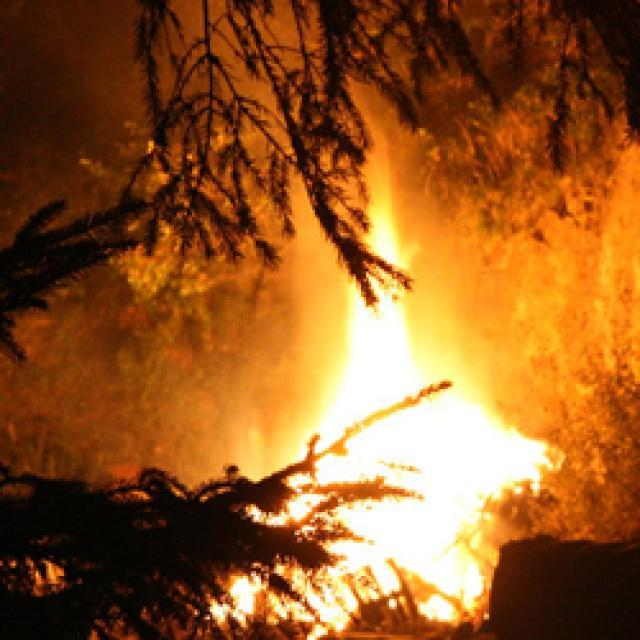Fire: (290, 87, 596, 506), (276, 252, 524, 615), (197, 542, 483, 640)
Smoke: (0, 165, 261, 476), (516, 189, 640, 376)
